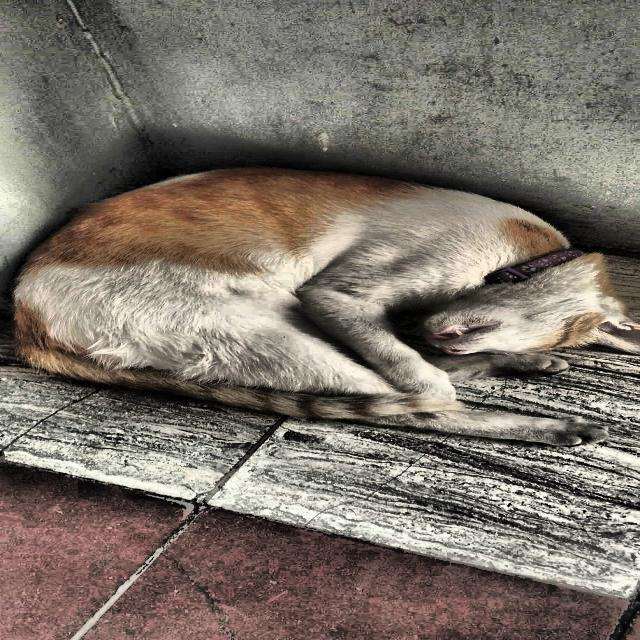Healthy skin: (77, 227, 261, 336)
